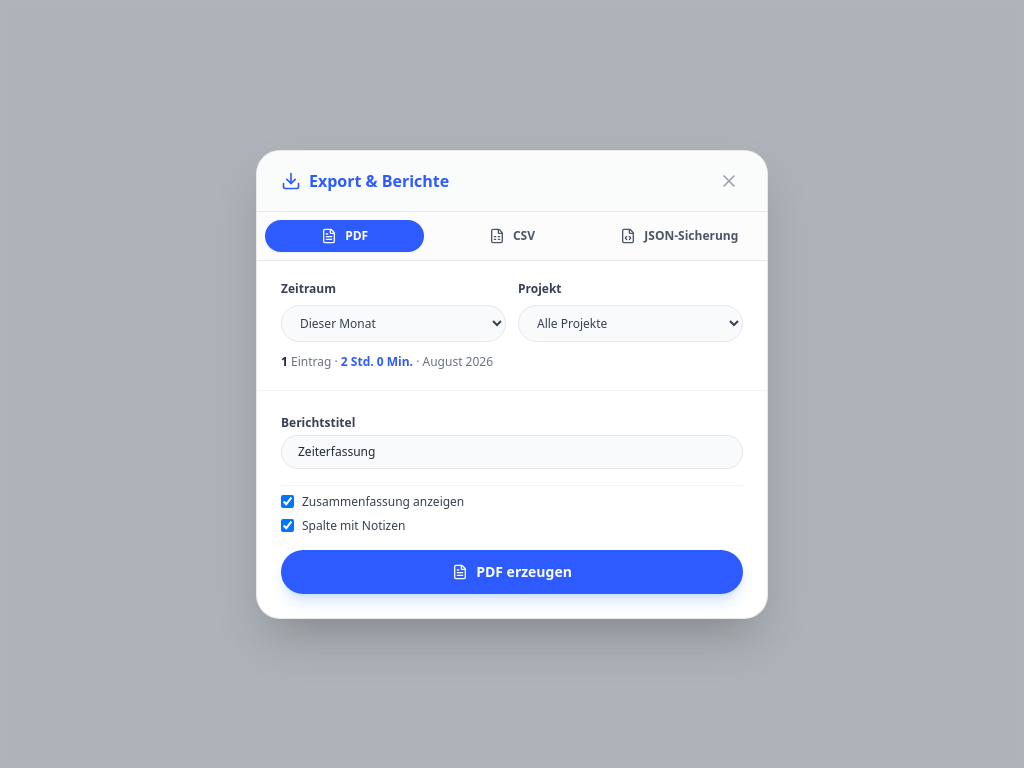
Test: ExportModal result message › drops the message when the project filter changes
Click the button "CSV".
click(512, 236)  # box [432, 220, 592, 252]
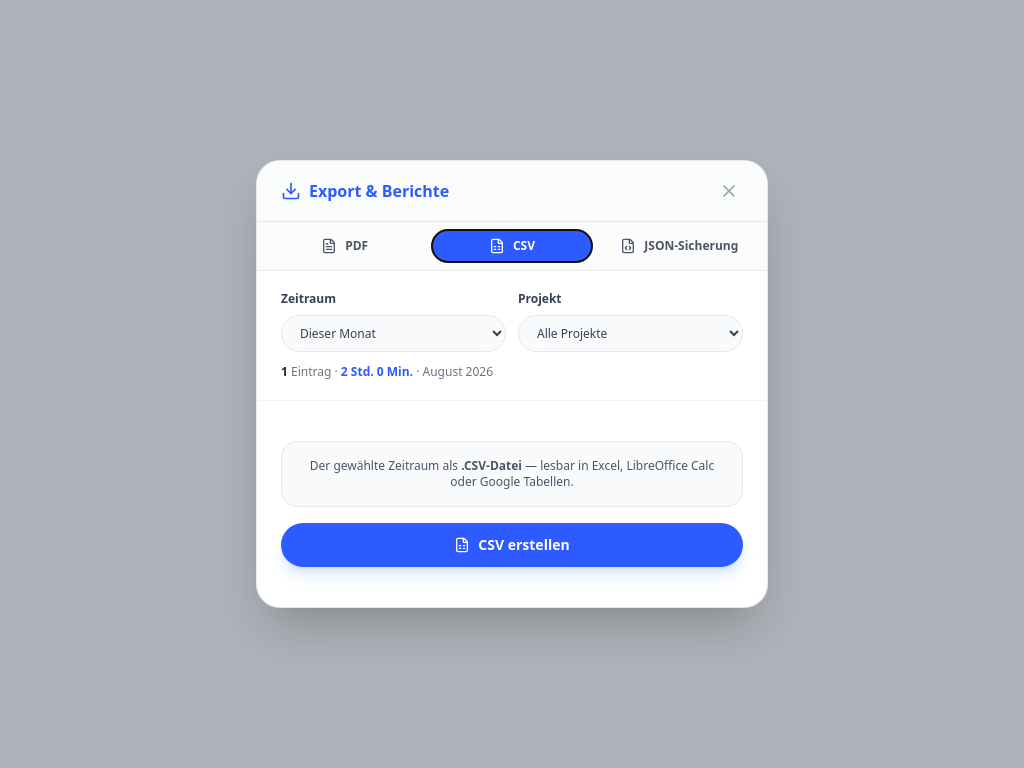
Click the button "CSV erstellen".
click(512, 545)  # box [281, 523, 743, 567]
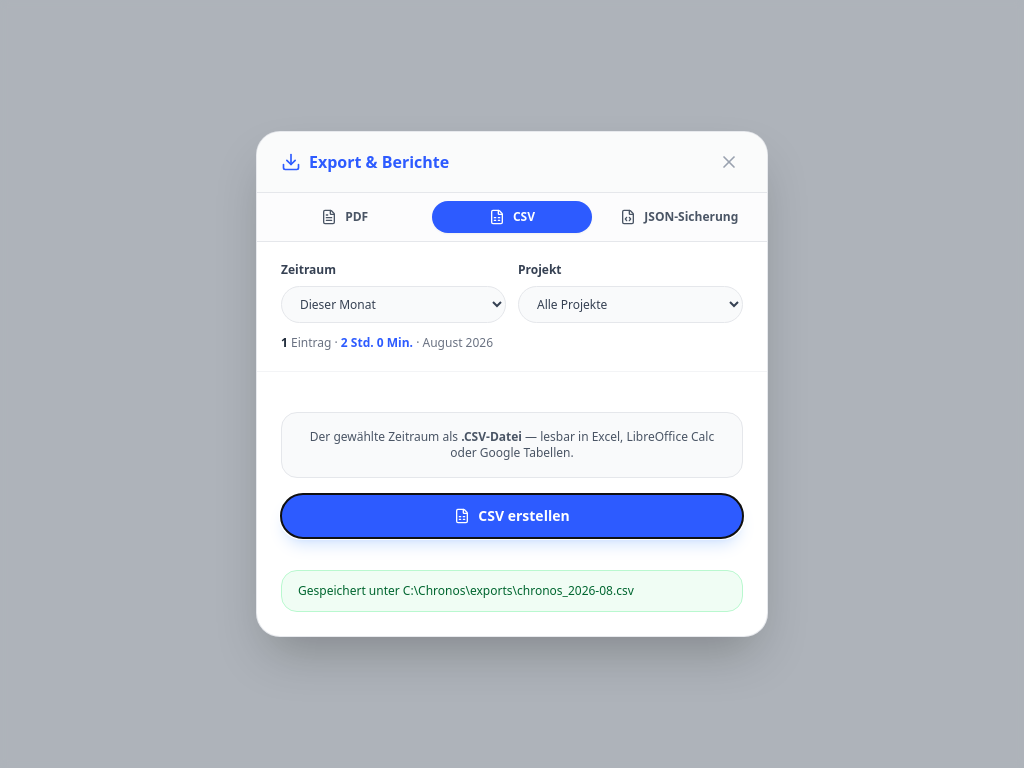
Expected: the message "Gespeichert unter C:\\Chronos\\exports\\chronos_2026-08.csv" is shown, [281, 570, 743, 612]
Select "Arbeit" in the dropdown labelled "Projekt" at (630, 304), box [518, 286, 743, 323]
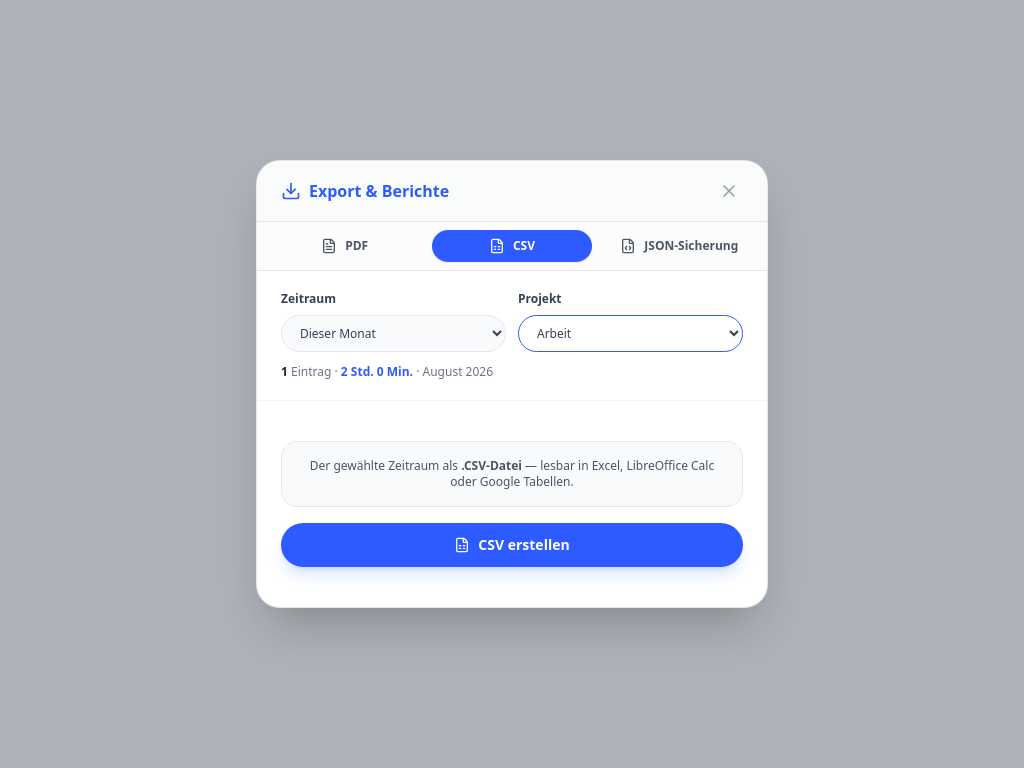
Expected: the message "Gespeichert unter C:\\Chronos\\exports\\chronos_2026-08.csv" is gone
